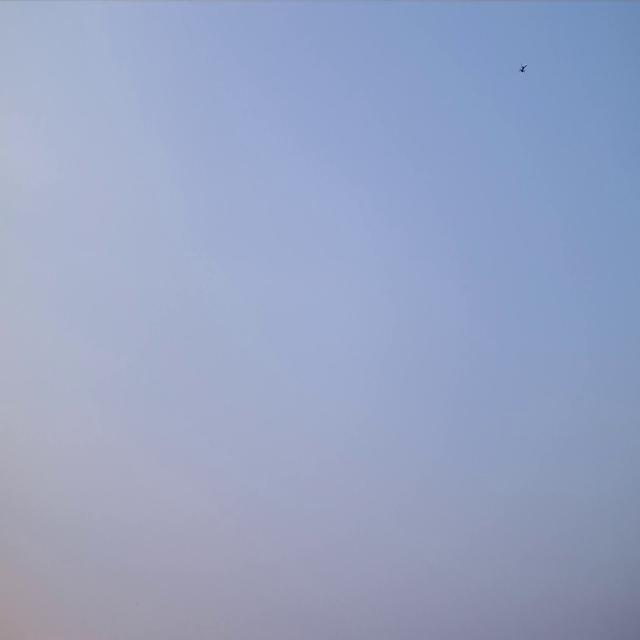UAV: (518, 61, 527, 74)
